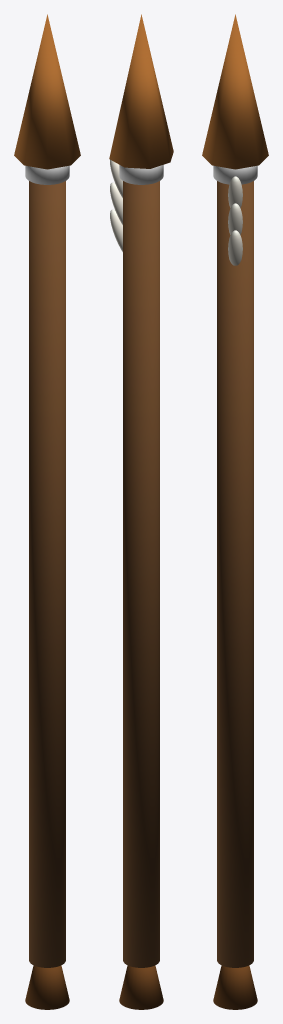
The model's file is lanza_corta.glb.
The picture shows the model from 3 angles, left to right: view 1: azimuth 90°, elevation 25°; view 2: azimuth 150°, elevation 25°; view 3: azimuth 270°, elevation 25°; orthographic projection.
Parts seen in each view (by area): view 1: lanza_corta_fijo; view 2: lanza_corta_fijo; view 3: lanza_corta_fijo.
Boxes of the visible parts, x1,y1,x2,y2 form: lanza_corta_fijo: (14, 14, 80, 1009); lanza_corta_fijo: (109, 14, 173, 1009); lanza_corta_fijo: (202, 14, 268, 1009).
Size of the model in its own units: 0.1865 by 2.93 by 0.18.
2 materials, 2 textured.
